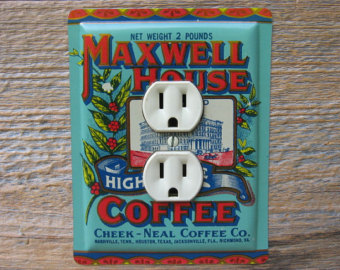outlet: (155, 89, 190, 129), (157, 161, 191, 200)
